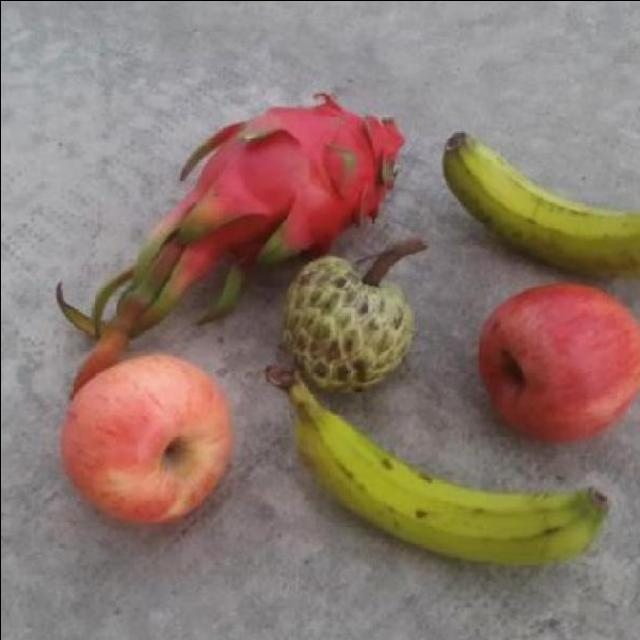apple: (59, 351, 242, 539), (472, 278, 640, 449)
banana: (264, 362, 620, 578), (443, 127, 640, 281)
dragon fruit: (160, 88, 422, 274)
sugar apple: (280, 239, 420, 396)
